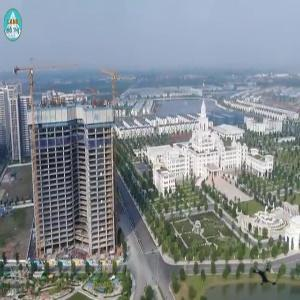drone: (242, 252, 291, 300)
